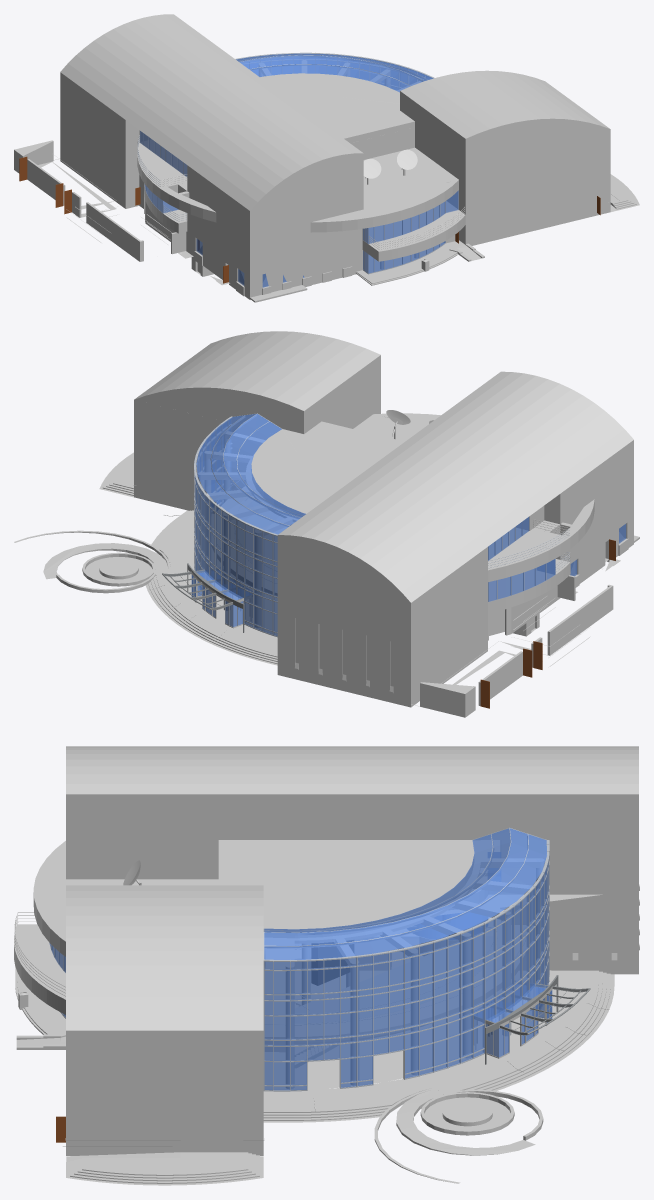
The model's file is highpoly.obj.
3 renders of one model, top to bottom at view 1: azimuth 30°, elevation 25°; view 2: azimuth 150°, elevation 25°; view 3: azimuth 270°, elevation 25°, orthographic. The views are drawn at different scales.
Parts seen in each view (by area): view 1: Mesh1221 Model, Mesh51 Group28 Group27 Model, Mesh52 Group29 Group27 Model, Mesh54 Group32 Group30 Group27 Model, Mesh53 Group31 Group30 Group27 Model, Mesh1259 Model, Mesh1260 Model, Mesh77 Group57 Model; view 2: Mesh1221 Model, Mesh51 Group28 Group27 Model, Mesh52 Group29 Group27 Model, Mesh54 Group32 Group30 Group27 Model, Mesh53 Group31 Group30 Group27 Model, Mesh93 Group70 Group62 Model, Mesh80 Group61 Group58 Model, Mesh1259 Model, Mesh79 Group60 Group58 Model, Mesh77 Group57 Model, Mesh1260 Model, Mesh268 horiz_curtain_4__4_1 north_curtain_wall1 Model (+5 smaller); view 3: Mesh1221 Model, Mesh51 Group28 Group27 Model, Mesh52 Group29 Group27 Model, Mesh54 Group32 Group30 Group27 Model, Mesh53 Group31 Group30 Group27 Model, Mesh93 Group70 Group62 Model, Mesh77 Group57 Model, Mesh80 Group61 Group58 Model, Mesh72 Group52 Group47 Model, Mesh1175 horiz_curtain_4__14_2 north_curtain_wall_2_1 Model, Mesh1170 horiz_curtain_4__14_1 north_curtain_wall_2_1 Model, Mesh79 Group60 Group58 Model (+32 smaller).
Part boxes in pixels (bbox=[...]): Mesh1221 Model: bbox=[14, 54, 610, 302]; Mesh51 Group28 Group27 Model: bbox=[60, 14, 363, 210]; Mesh52 Group29 Group27 Model: bbox=[400, 70, 610, 164]; Mesh54 Group32 Group30 Group27 Model: bbox=[260, 73, 414, 143]; Mesh53 Group31 Group30 Group27 Model: bbox=[236, 53, 433, 92]; Mesh1259 Model: bbox=[86, 202, 143, 261]; Mesh1260 Model: bbox=[27, 159, 65, 205]; Mesh77 Group57 Model: bbox=[365, 243, 442, 272]; Mesh1221 Model: bbox=[134, 385, 639, 717]; Mesh51 Group28 Group27 Model: bbox=[277, 371, 633, 602]; Mesh52 Group29 Group27 Model: bbox=[134, 331, 380, 433]; Mesh54 Group32 Group30 Group27 Model: bbox=[251, 421, 404, 515]; Mesh53 Group31 Group30 Group27 Model: bbox=[196, 413, 305, 534]; Mesh93 Group70 Group62 Model: bbox=[155, 513, 277, 657]; Mesh80 Group61 Group58 Model: bbox=[82, 552, 155, 586]; Mesh1259 Model: bbox=[511, 584, 613, 655]; Mesh79 Group60 Group58 Model: bbox=[43, 543, 168, 579]; Mesh77 Group57 Model: bbox=[196, 548, 608, 634]; Mesh1260 Model: bbox=[478, 651, 522, 705]; Mesh268 horiz_curtain_4__4_1 north_curtain_wall1 Model: bbox=[263, 532, 272, 635]; Mesh1221 Model: bbox=[14, 840, 639, 1155]; Mesh51 Group28 Group27 Model: bbox=[66, 746, 638, 839]; Mesh52 Group29 Group27 Model: bbox=[66, 885, 263, 1030]; Mesh54 Group32 Group30 Group27 Model: bbox=[218, 840, 474, 937]; Mesh53 Group31 Group30 Group27 Model: bbox=[263, 827, 546, 959]; Mesh93 Group70 Group62 Model: bbox=[263, 970, 598, 1112]; Mesh77 Group57 Model: bbox=[265, 952, 546, 1089]; Mesh80 Group61 Group58 Model: bbox=[420, 1092, 514, 1135]; Mesh72 Group52 Group47 Model: bbox=[82, 1158, 248, 1175]; Mesh1175 horiz_curtain_4__14_2 north_curtain_wall_2_1 Model: bbox=[273, 962, 289, 1091]; Mesh1170 horiz_curtain_4__14_1 north_curtain_wall_2_1 Model: bbox=[290, 961, 306, 1091]; Mesh79 Group60 Group58 Model: bbox=[396, 1088, 535, 1155].
Size of the model in its own units: 2844 by 899 by 2242.
